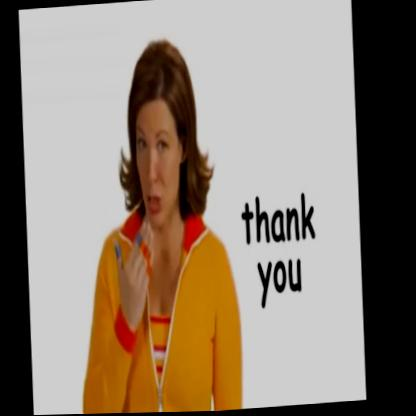ThankYou: (99, 31, 216, 321)
